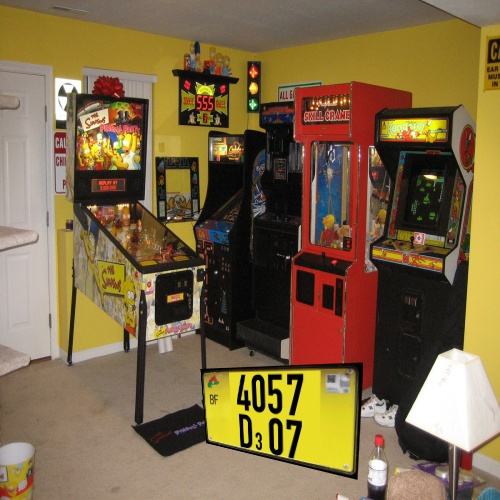plate: (189, 354, 379, 487)
